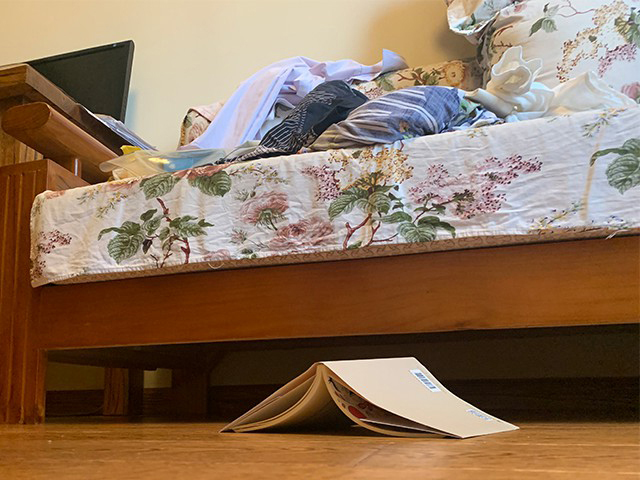book: (218, 356, 521, 440)
sofa: (1, 1, 640, 424)
